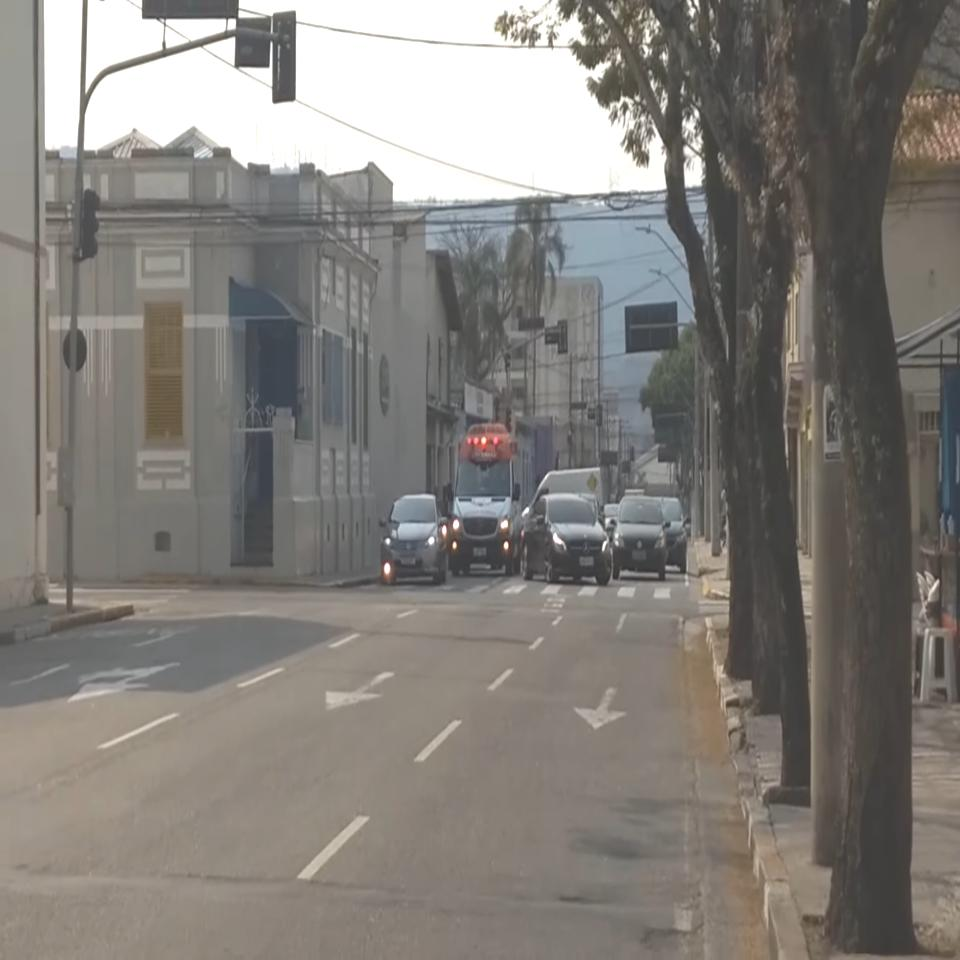ambulancia: (450, 424, 524, 575)
